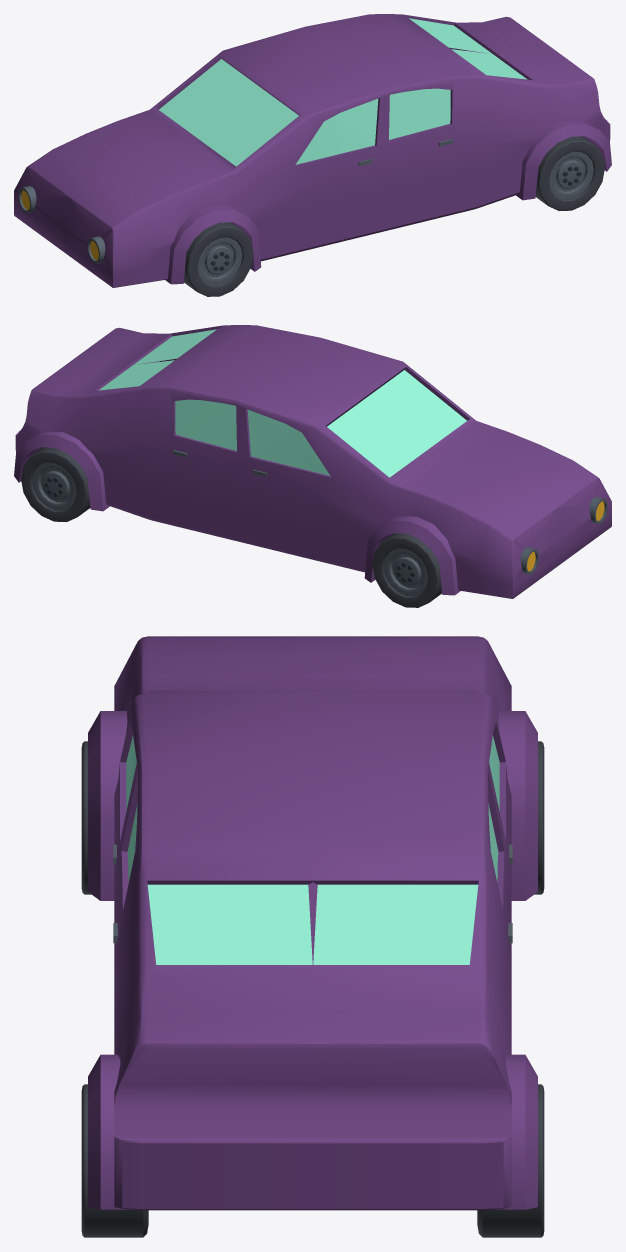
File: CarPurple.fbx
3 renders of one model, top to bottom at view 1: azimuth 30°, elevation 25°; view 2: azimuth 150°, elevation 25°; view 3: azimuth 270°, elevation 25°, orthographic. The views are drawn at different scales.
Parts seen in each view (by area): view 1: Car.001, Wheels.001; view 2: Car.001, Wheels.001; view 3: Car.001, Wheels.001.
Boxes of the visible parts, box(x1,y1,x2,y2) form: Car.001: box(14, 14, 611, 287); Wheels.001: box(184, 136, 604, 296); Car.001: box(14, 325, 611, 598); Wheels.001: box(21, 447, 441, 607); Car.001: box(88, 636, 537, 1210); Wheels.001: box(81, 741, 544, 1237).
Bounding box in the file's own units: 451 × 131 × 179.
